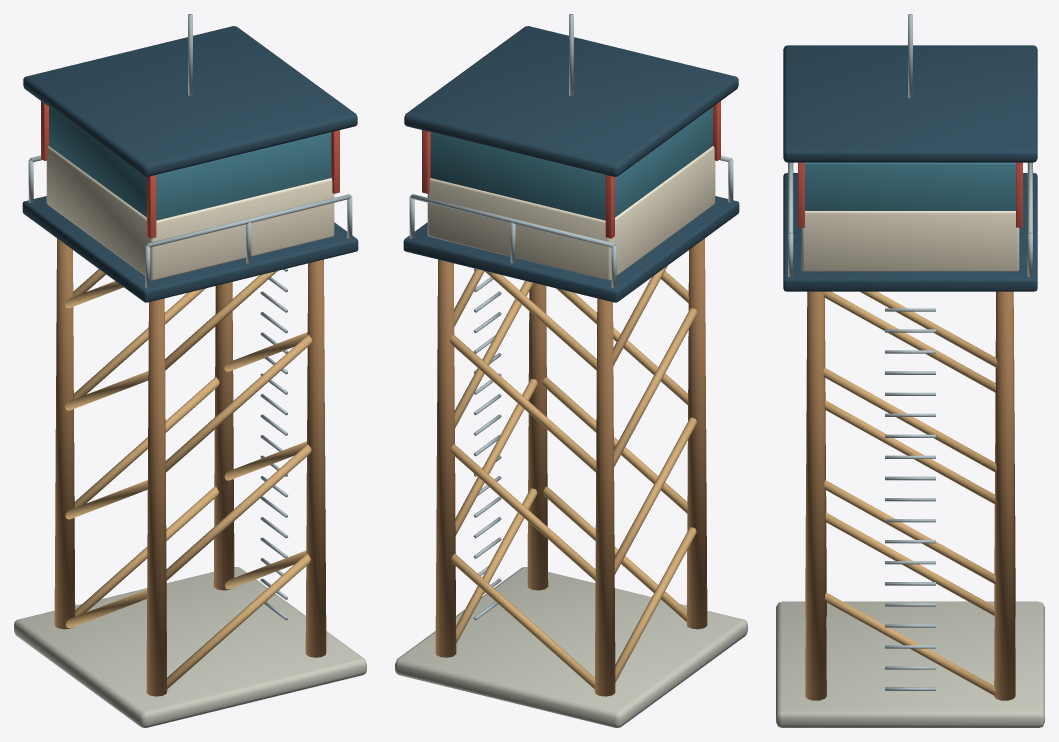
File: tower.glb
3 renders of one model, left to right at view 1: azimuth 30°, elevation 25°; view 2: azimuth 150°, elevation 25°; view 3: azimuth 270°, elevation 25°, orthographic. The views are drawn at different scales.
Visible parts, largest first — view 1: tower_Navy, tower_Concrete, tower_Wood, tower_WoodLight, tower_Ivory, tower_Glass, tower_Aluminium, tower_Paint; view 2: tower_Navy, tower_Concrete, tower_Wood, tower_WoodLight, tower_Ivory, tower_Glass, tower_Aluminium, tower_Paint; view 3: tower_Navy, tower_Concrete, tower_Wood, tower_Ivory, tower_WoodLight, tower_Glass, tower_Aluminium, tower_Paint.
Boxes of the visible parts, x1,y1,x2,y2 form: tower_Navy: [22, 26, 358, 302]; tower_Concrete: [14, 567, 366, 727]; tower_Wood: [54, 238, 326, 696]; tower_WoodLight: [64, 269, 312, 688]; tower_Ivory: [46, 146, 334, 280]; tower_Glass: [49, 107, 331, 220]; tower_Aluminium: [28, 14, 352, 620]; tower_Paint: [41, 101, 339, 238]; tower_Navy: [403, 26, 739, 302]; tower_Concrete: [395, 567, 747, 727]; tower_Wood: [435, 238, 707, 696]; tower_WoodLight: [449, 265, 697, 688]; tower_Ivory: [427, 146, 715, 280]; tower_Glass: [430, 107, 712, 220]; tower_Aluminium: [409, 14, 733, 620]; tower_Paint: [422, 101, 720, 238]; tower_Navy: [783, 45, 1037, 291]; tower_Concrete: [776, 601, 1044, 727]; tower_Wood: [805, 291, 1015, 700]; tower_Ivory: [801, 211, 1019, 271]; tower_WoodLight: [823, 291, 997, 695]; tower_Glass: [805, 162, 1015, 210]; tower_Aluminium: [788, 14, 1032, 690]; tower_Paint: [798, 162, 1022, 227].
Size of the model in its own units: 3.7 by 10 by 3.7.
